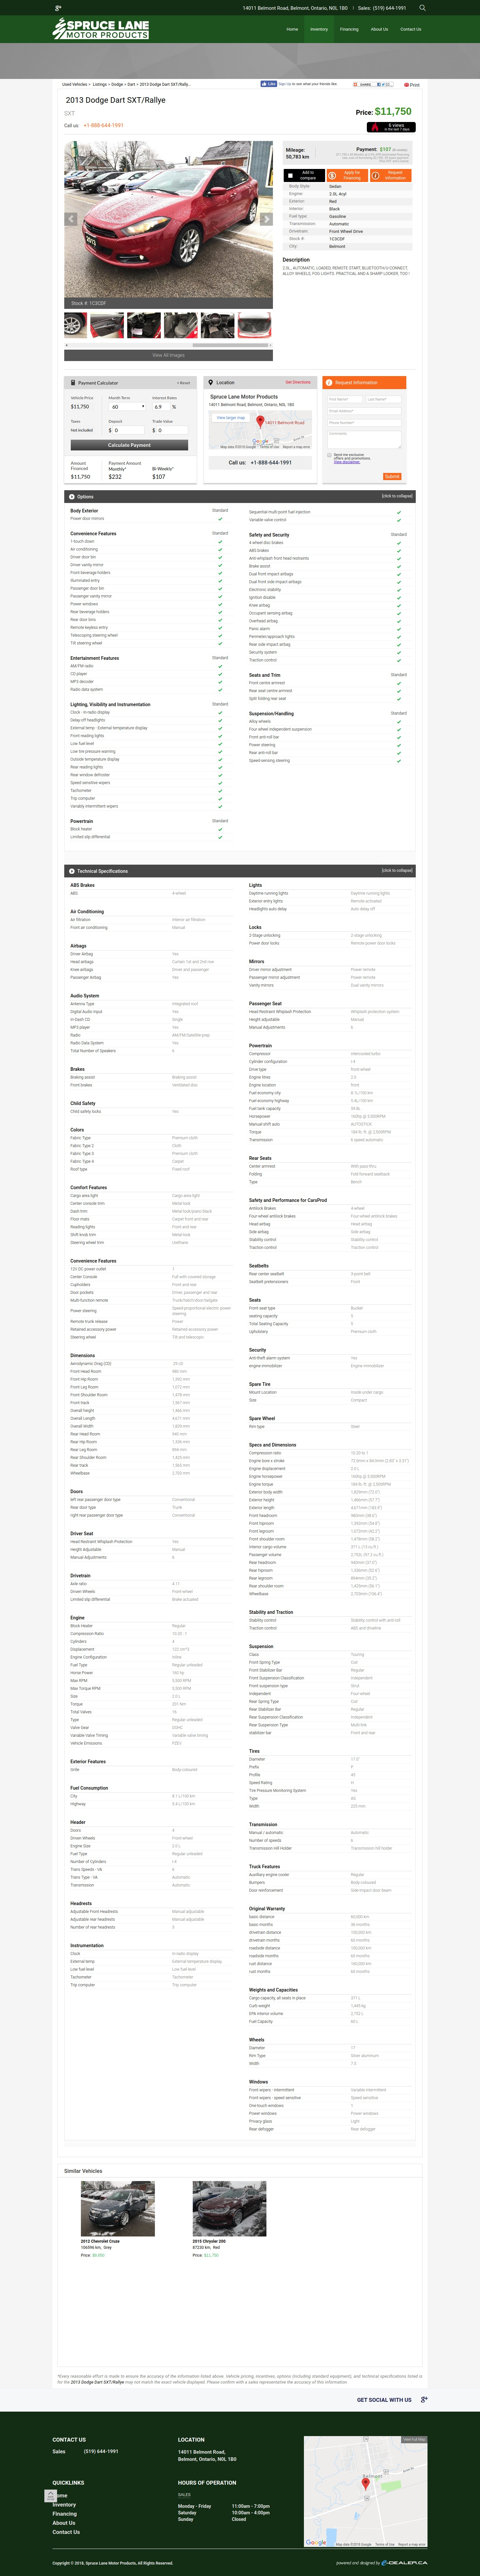car: (268, 342, 273, 348)
